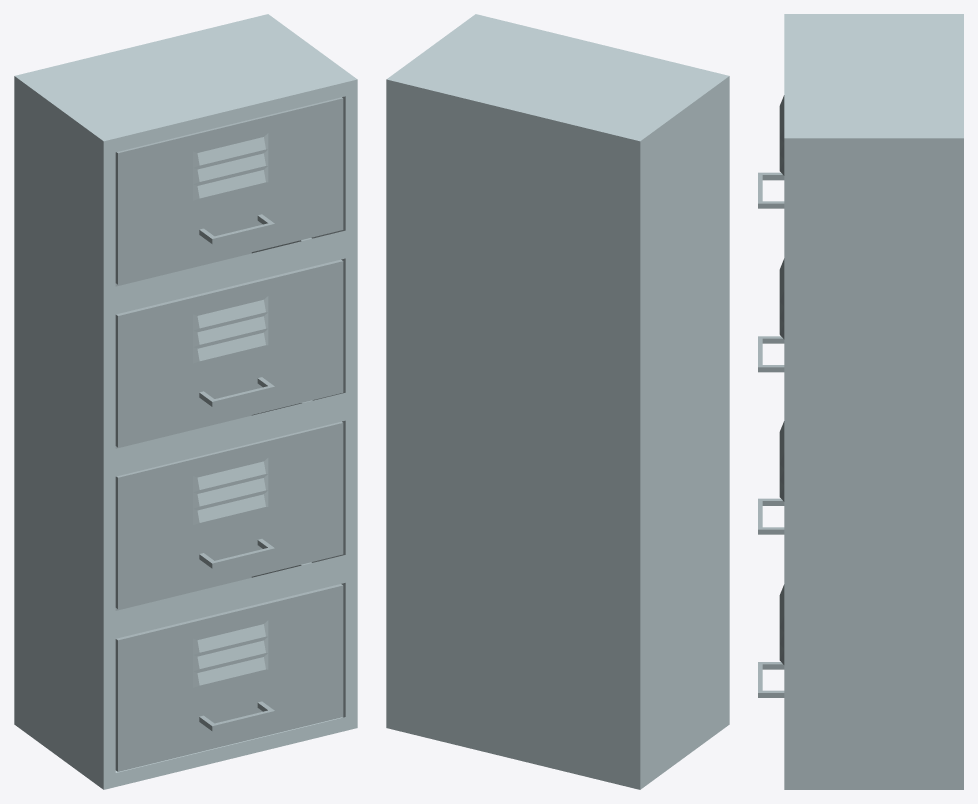
File: Drawer_Big.fbx
The picture shows the model from 3 angles, left to right: view 1: azimuth 30°, elevation 25°; view 2: azimuth 150°, elevation 25°; view 3: azimuth 270°, elevation 25°; orthographic projection.
Visible parts, largest first — view 1: Cube.028, Cube.026, Cube.024, Cube.025, Cube.027; view 2: Cube.028; view 3: Cube.028, Cube.027, Cube.026, Cube.025, Cube.024.
Part boxes in pixels (x1,y1,x2,y2): Cube.028: (14,14,357,789); Cube.026: (115,238,343,447); Cube.024: (115,562,343,771); Cube.025: (115,400,343,609); Cube.027: (115,97,343,284); Cube.028: (386,14,729,789); Cube.028: (784,14,963,789); Cube.027: (758,95,784,208); Cube.026: (758,258,784,372); Cube.025: (758,421,784,534); Cube.024: (758,584,784,697).
Size of the model in its own units: 328 by 801 by 229.
